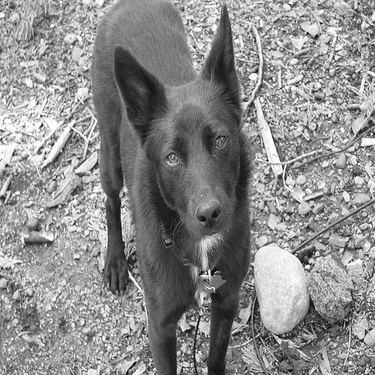dog: (77, 1, 256, 373)
